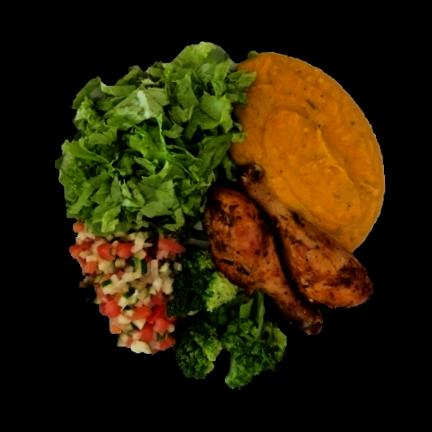broccoli: (168, 248, 286, 389)
chicken: (204, 166, 374, 335)
salad: (56, 42, 254, 238)
